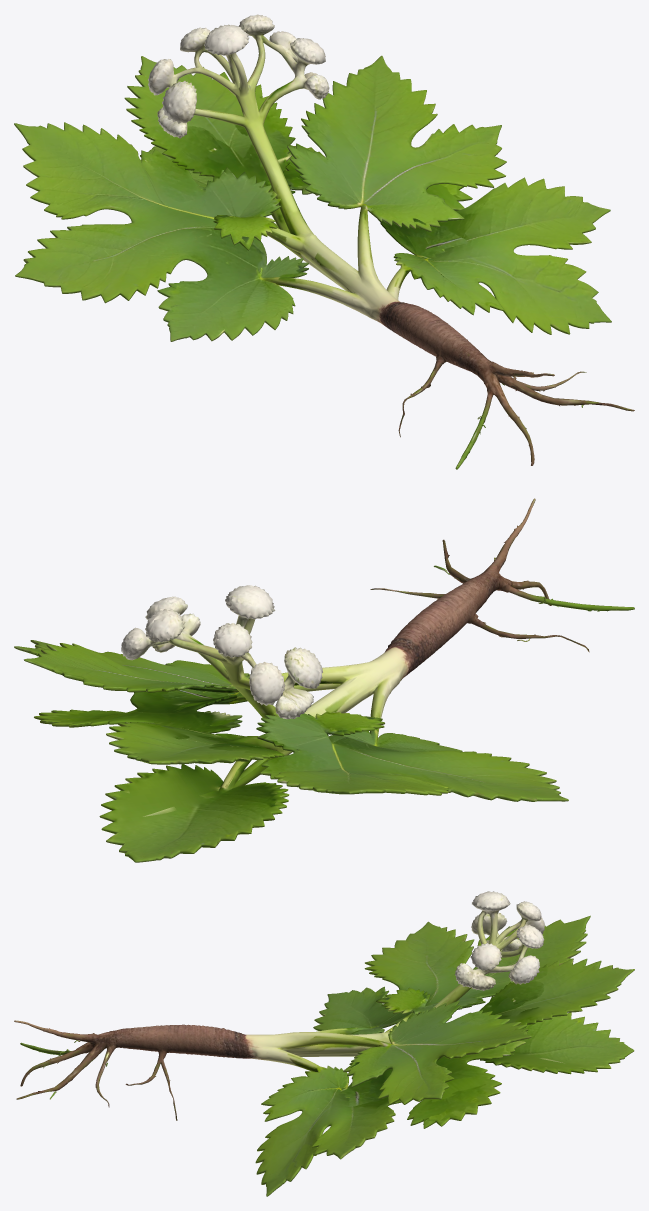
File: duhuo.glb
The picture shows the model from 3 angles, top to bottom: view 1: azimuth 30°, elevation 25°; view 2: azimuth 150°, elevation 25°; view 3: azimuth 270°, elevation 25°; orthographic projection. The views are drawn at different scales.
Visible parts, largest first — view 1: node_0; view 2: node_0; view 3: node_0.
Boxes of the visible parts, x1,y1,x2,y2 form: node_0: [14, 14, 634, 469]; node_0: [14, 498, 634, 862]; node_0: [14, 891, 634, 1196].
Size of the model in its own units: 0.9345 by 0.4186 by 1.14.
1 material, 1 textured.
